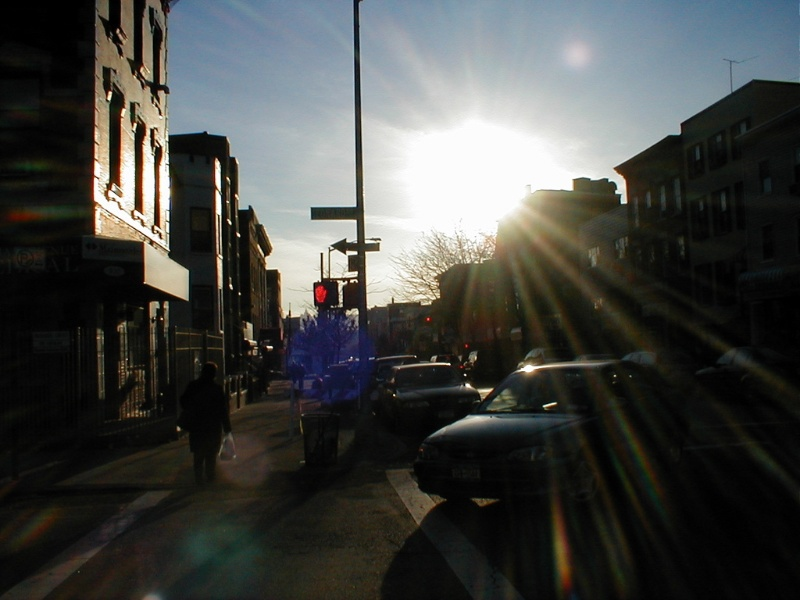red_light: (312, 270, 358, 314)
